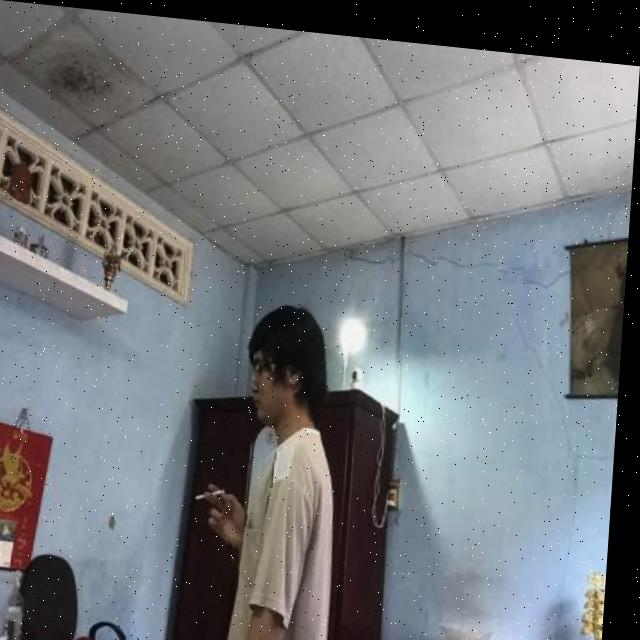cigarette: (201, 480, 234, 499)
